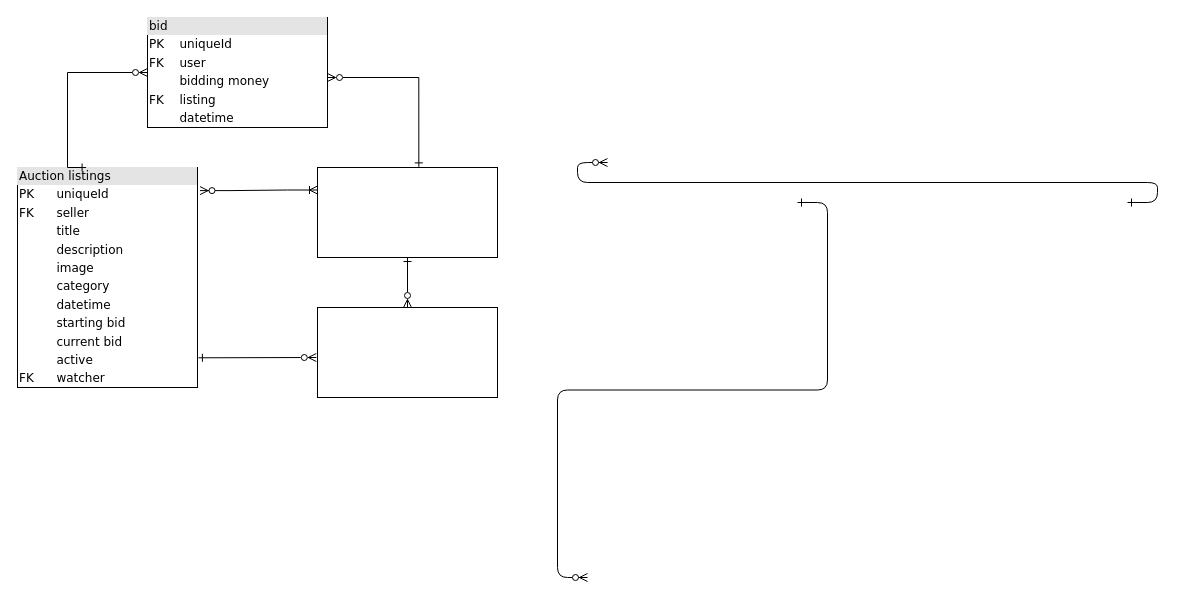
This 1184x604 diagram has some shape labels left out. Each missing label, with the centre of its shape:
"Comment PK uniqueId FK user comment FK listing" goes at point (407, 352).
"User PK uniqueId username password email" goes at point (407, 212).
